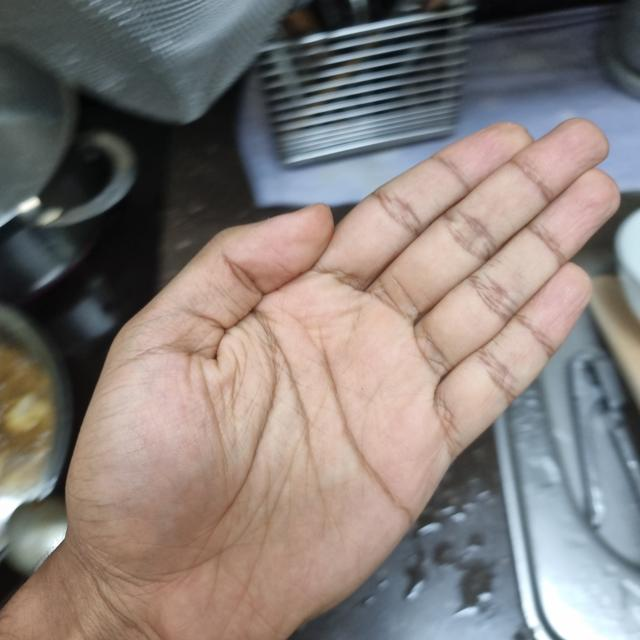Paper: (66, 119, 622, 637)
